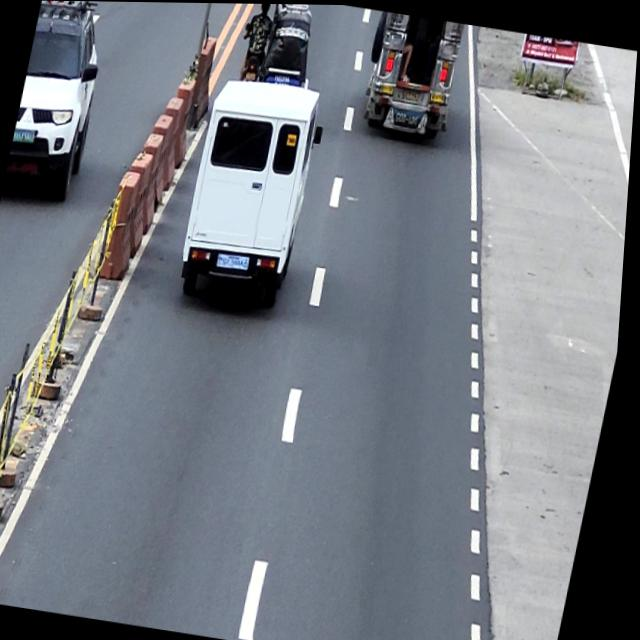Car: (177, 73, 334, 315), (3, 0, 117, 207)
Jeep: (356, 10, 469, 145)
License-Plate: (14, 126, 38, 145), (224, 252, 249, 269), (400, 85, 422, 101)
Tricycle: (232, 3, 325, 93)
